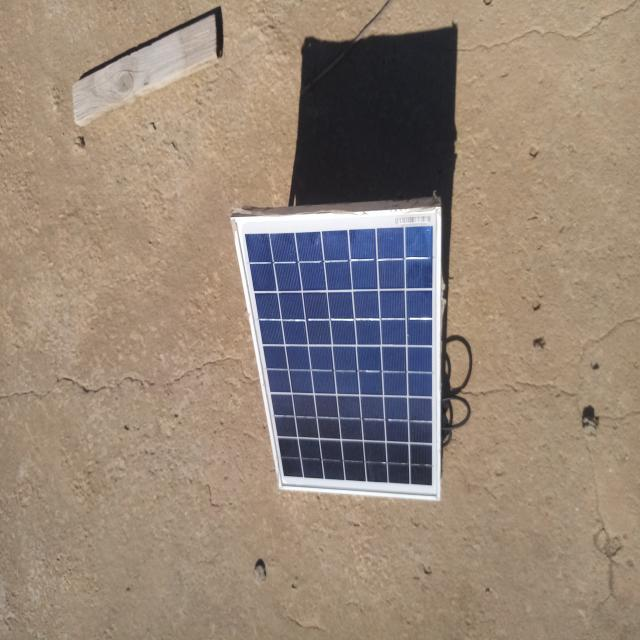no faulty: (237, 209, 443, 501)
